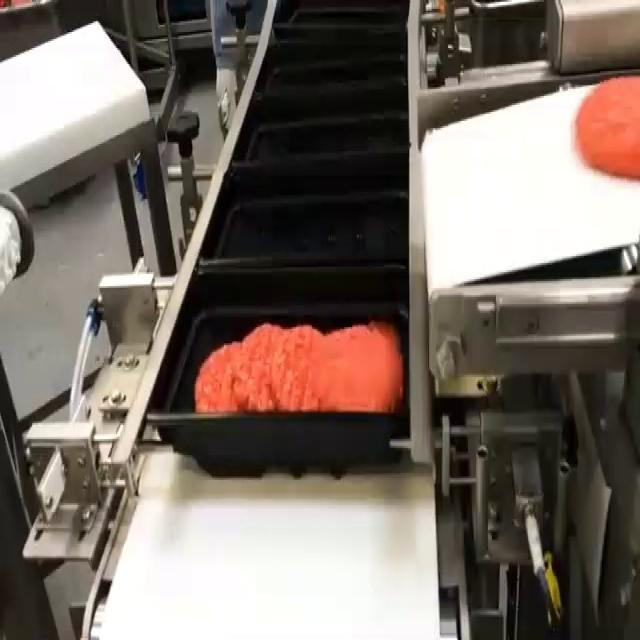4-hamburguer: (194, 324, 401, 411)
